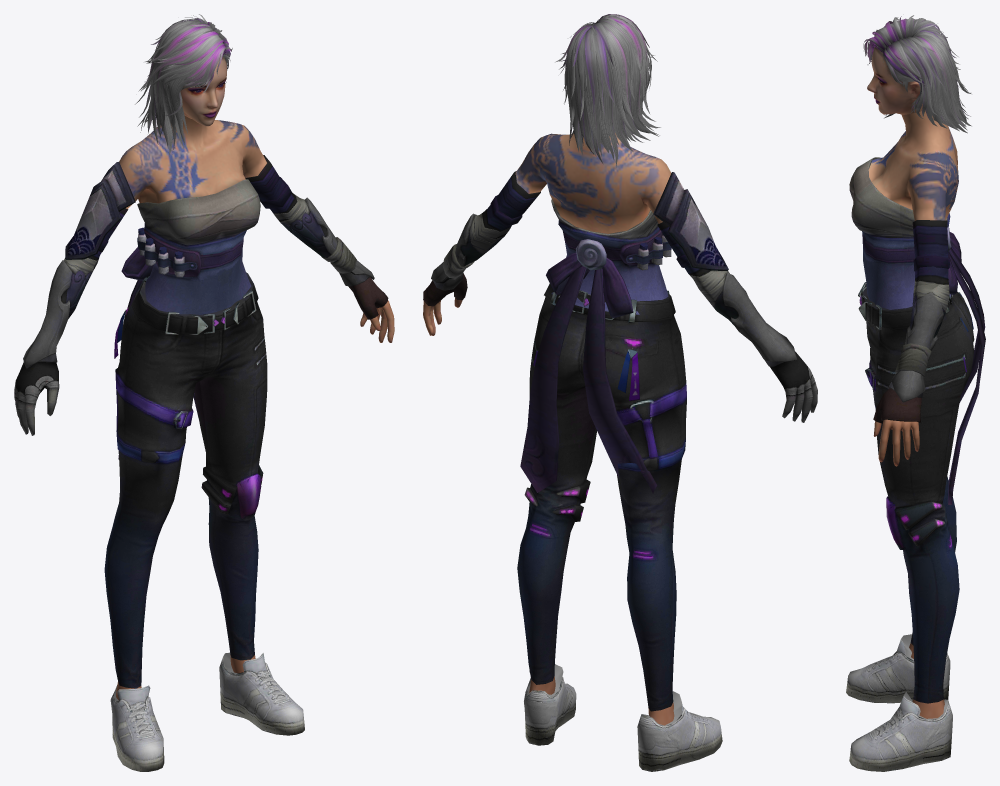
File: bandpurp.fbx
3 views of the same model, side by side, from view 1: azimuth 30°, elevation 25°; view 2: azimuth 150°, elevation 25°; view 3: azimuth 270°, elevation 25° (orthographic). The views are drawn at different scales.
Parts seen in each view (by area): view 1: Object_4, Object_5, Object_2, Object_3, Object_6; view 2: Object_4, Object_5, Object_2, Object_6, Object_3; view 3: Object_4, Object_5, Object_2, Object_3, Object_6.
Boxes of the visible parts, x1,y1,x2,y2 form: Object_4: (104,272,267,688); Object_5: (14,155,388,459); Object_2: (116,56,394,700); Object_3: (110,652,304,771); Object_6: (135,14,232,155); Object_4: (517,283,686,711); Object_5: (423,171,817,493); Object_2: (423,133,674,725); Object_6: (555,14,660,167); Object_3: (524,664,722,771); Object_4: (858,282,974,703); Object_5: (849,157,985,504); Object_2: (867,46,958,718); Object_3: (846,634,952,771); Object_6: (863,15,971,133).
Size of the model in its own units: 308 by 559 by 99.45.
Materials: 5 (5 with a texture image).
